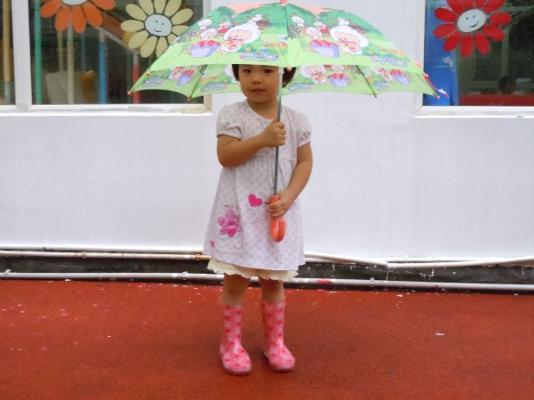person: (203, 63, 315, 375)
